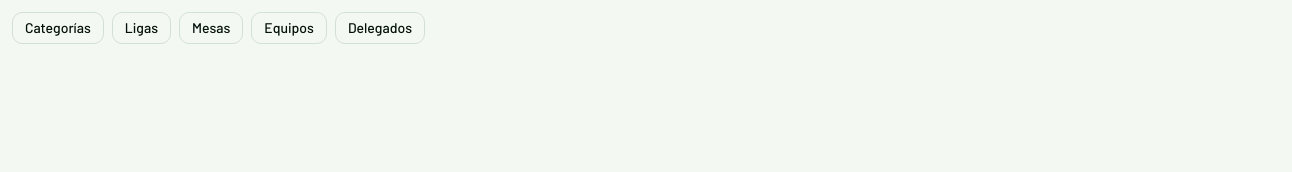
it: ActividadCliente (plataforma, solo lectura) › ligas: modalidad y estado en español
The width and height of the screenshot is (1292, 172).
What coordinates should you click on to do the following:
click the button "Ligas"
I would click on:
 (141, 28)
Its box is x1=112 y1=12 x2=171 y2=44.
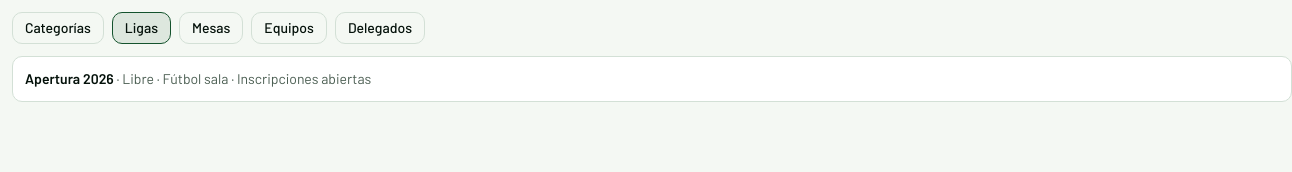
Now the list named "Ligas del cliente" shows "Apertura 2026", box x1=25 y1=70 x2=114 y2=87
Now the list named "Ligas del cliente" shows "Fútbol sala", box x1=162 y1=70 x2=228 y2=87
Now the list named "Ligas del cliente" shows "Inscripciones abiertas", box x1=237 y1=70 x2=371 y2=87
